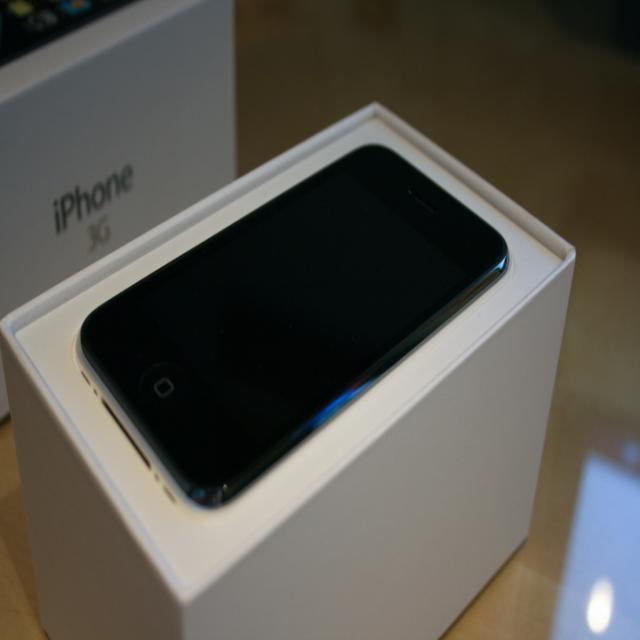Mobile-phone: (77, 141, 510, 507)
